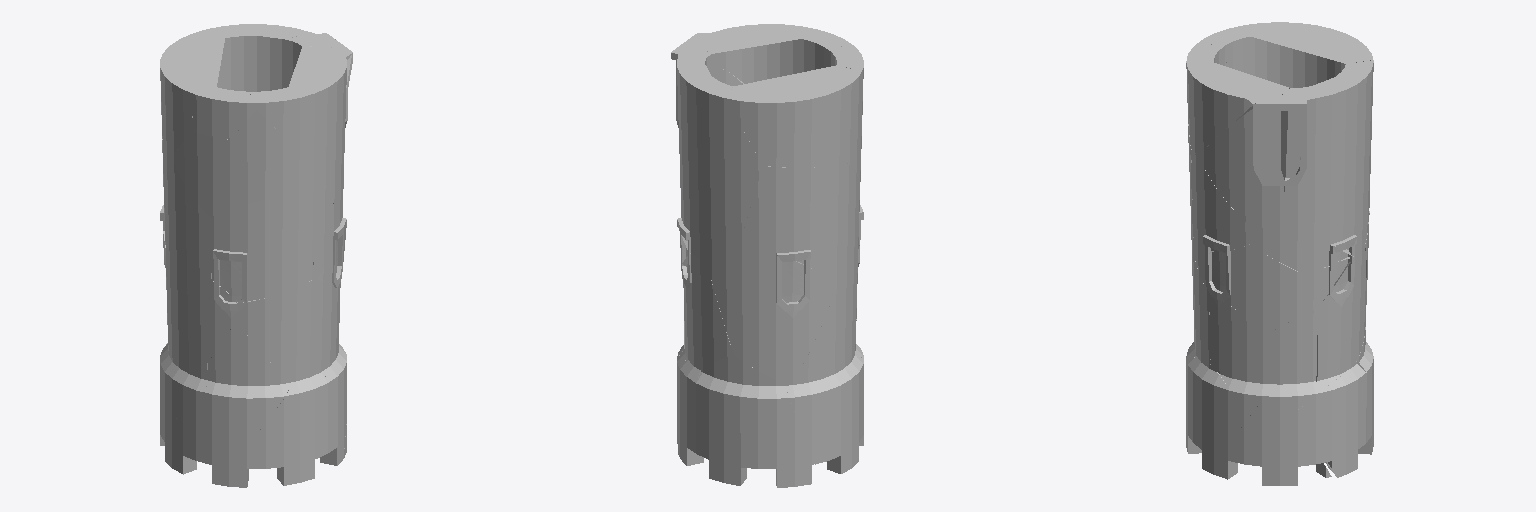
Rendered from destruction_tower_000002.obj.
The picture shows the model from 3 angles: view 1: azimuth 30°, elevation 25°; view 2: azimuth 150°, elevation 25°; view 3: azimuth 270°, elevation 25°; orthographic projection.
Visible parts, largest first — view 1: tower.001_cell.024_Mesh.024, tower.001_cell.028_Mesh.028, tower.001_cell.021_Mesh.021, tower.001_cell.006_Mesh.006, tower.001_cell.011_Mesh.011, tower.001_cell.013_Mesh.013, tower.001_cell.002_Mesh.002, tower.001_cell.015_Mesh.015, tower.001_cell.009_Mesh.009, tower.001_cell.017_Mesh.017, tower.001_cell.003_Mesh.003, tower.001_cell.014_Mesh.014 (+9 smaller); view 2: tower.001_cell.025_Mesh.025, tower.001_cell.017_Mesh.017, tower.001_cell.007_Mesh.007, tower.001_cell.015_Mesh.015, tower.001_cell.003_Mesh.003, tower.001_cell.028_Mesh.028, tower.001_cell.005_Mesh.005, tower.001_cell.012_Mesh.012, tower.001_cell.009_Mesh.009, tower.001_cell.029_Mesh.029, tower.001_cell.006_Mesh.006, tower.001_cell.026_Mesh.026 (+1 smaller); view 3: tower.001_cell.017_Mesh.017, tower.001_cell.020_Mesh.020, tower.001_cell.015_Mesh.015, tower.001_cell.028_Mesh.028, tower.001_cell.030_Mesh.030, tower.001_cell.029_Mesh.029, tower.001_cell_Mesh, tower.001_cell.012_Mesh.012, tower.001_cell.016_Mesh.016, tower.001_cell.023_Mesh.023, tower.001_cell.027_Mesh.027, tower.001_cell.026_Mesh.026 (+8 smaller).
Boxes of the visible parts, x1,y1,x2,y2 form: tower.001_cell.024_Mesh.024: [211, 175, 315, 302]; tower.001_cell.028_Mesh.028: [249, 46, 352, 170]; tower.001_cell.021_Mesh.021: [236, 279, 332, 384]; tower.001_cell.006_Mesh.006: [164, 390, 255, 487]; tower.001_cell.011_Mesh.011: [256, 374, 329, 485]; tower.001_cell.013_Mesh.013: [206, 322, 290, 433]; tower.001_cell.002_Mesh.002: [230, 110, 317, 206]; tower.001_cell.015_Mesh.015: [160, 30, 224, 157]; tower.001_cell.009_Mesh.009: [167, 271, 236, 362]; tower.001_cell.017_Mesh.017: [204, 24, 311, 91]; tower.001_cell.003_Mesh.003: [160, 139, 211, 278]; tower.001_cell.014_Mesh.014: [172, 132, 229, 216]; tower.001_cell.025_Mesh.025: [707, 234, 838, 381]; tower.001_cell.017_Mesh.017: [677, 58, 762, 262]; tower.001_cell.007_Mesh.007: [696, 355, 813, 487]; tower.001_cell.015_Mesh.015: [727, 65, 861, 167]; tower.001_cell.003_Mesh.003: [743, 163, 859, 279]; tower.001_cell.028_Mesh.028: [697, 24, 848, 83]; tower.001_cell.005_Mesh.005: [784, 338, 863, 464]; tower.001_cell.012_Mesh.012: [680, 254, 733, 367]; tower.001_cell.009_Mesh.009: [802, 246, 859, 366]; tower.001_cell.029_Mesh.029: [677, 355, 700, 465]; tower.001_cell.006_Mesh.006: [827, 357, 863, 473]; tower.001_cell.026_Mesh.026: [671, 46, 721, 127]; tower.001_cell.017_Mesh.017: [1314, 60, 1373, 256]; tower.001_cell.020_Mesh.020: [1200, 97, 1287, 225]; tower.001_cell.015_Mesh.015: [1250, 22, 1372, 87]; tower.001_cell.028_Mesh.028: [1186, 43, 1289, 154]; tower.001_cell.030_Mesh.030: [1212, 405, 1327, 485]; tower.001_cell.029_Mesh.029: [1297, 361, 1366, 477]; tower.001_cell_Mesh: [1209, 295, 1269, 405]; tower.001_cell.012_Mesh.012: [1316, 246, 1366, 389]; tower.001_cell.016_Mesh.016: [1266, 308, 1320, 409]; tower.001_cell.023_Mesh.023: [1195, 364, 1257, 473]; tower.001_cell.027_Mesh.027: [1228, 257, 1353, 332]; tower.001_cell.026_Mesh.026: [1280, 85, 1313, 225].
Bounding box in the file's own units: 44.17 × 97.23 × 42.82.